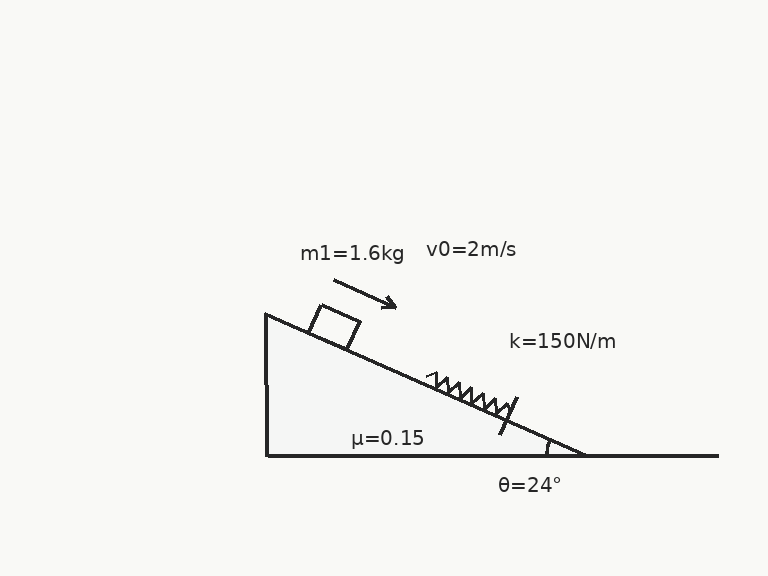block: (306, 302, 361, 351)
ramp: (264, 312, 588, 458)
spring: (425, 369, 512, 415)
